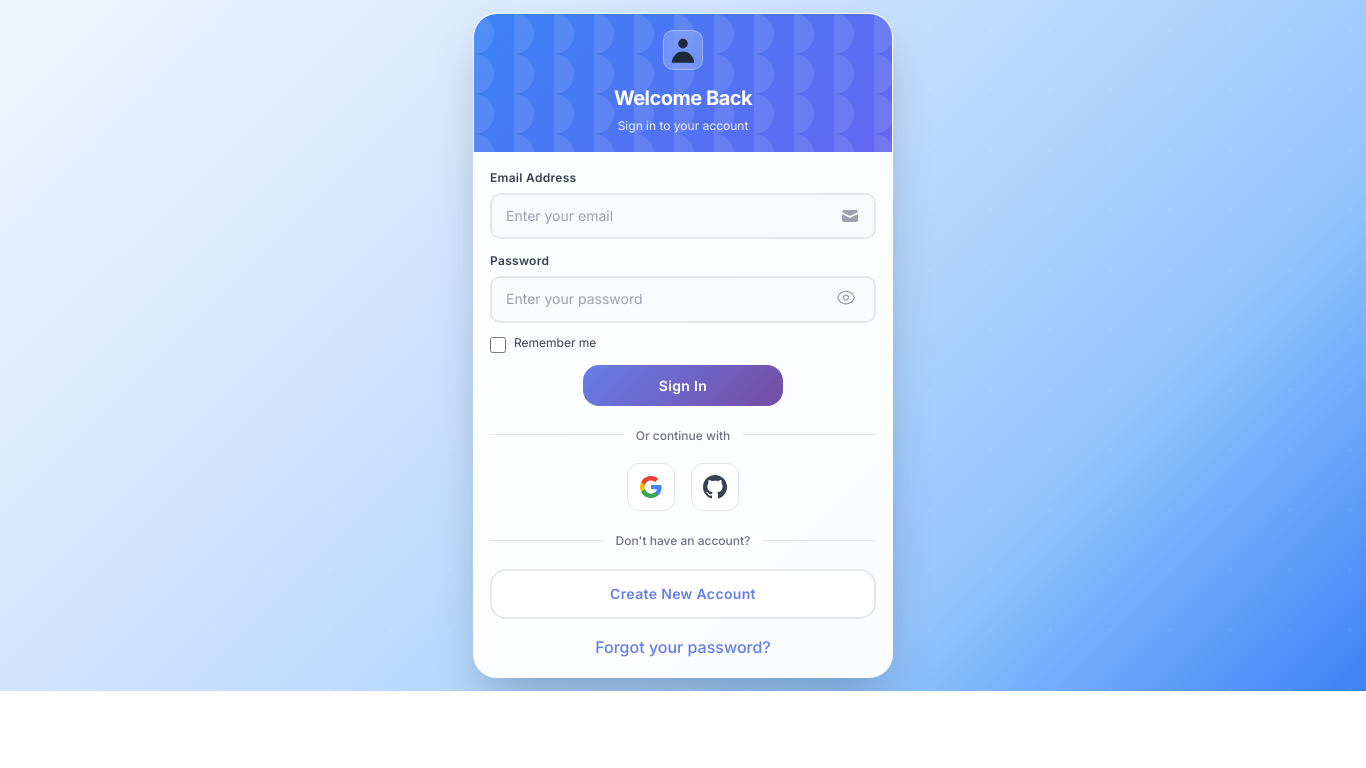
SignIn Component › displays validation error for invalid email format
Type "invalid-email" into the field labelled "Email Address".
click(683, 216); type("invalid-email")  # box [490,193,876,239]
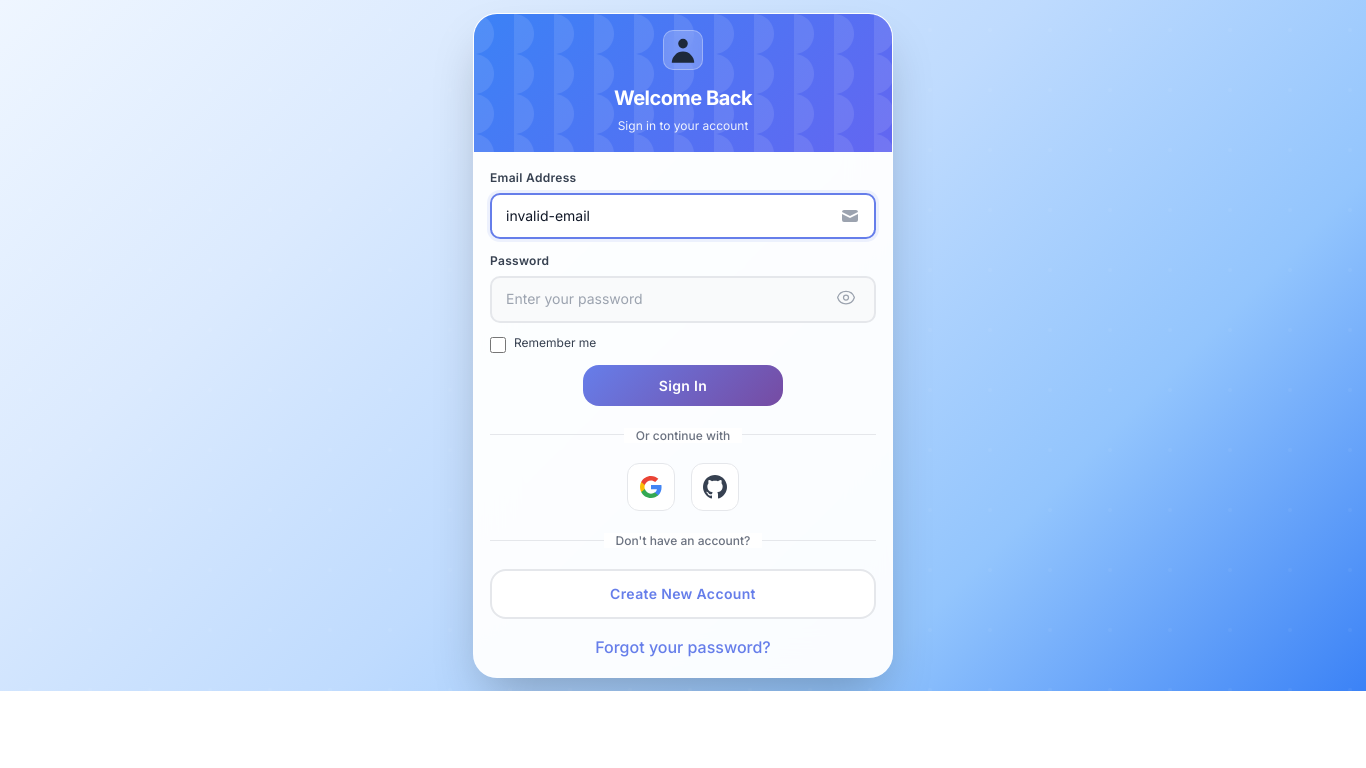
Click the button "Sign In".
click(683, 385)  # box [583,365,783,406]
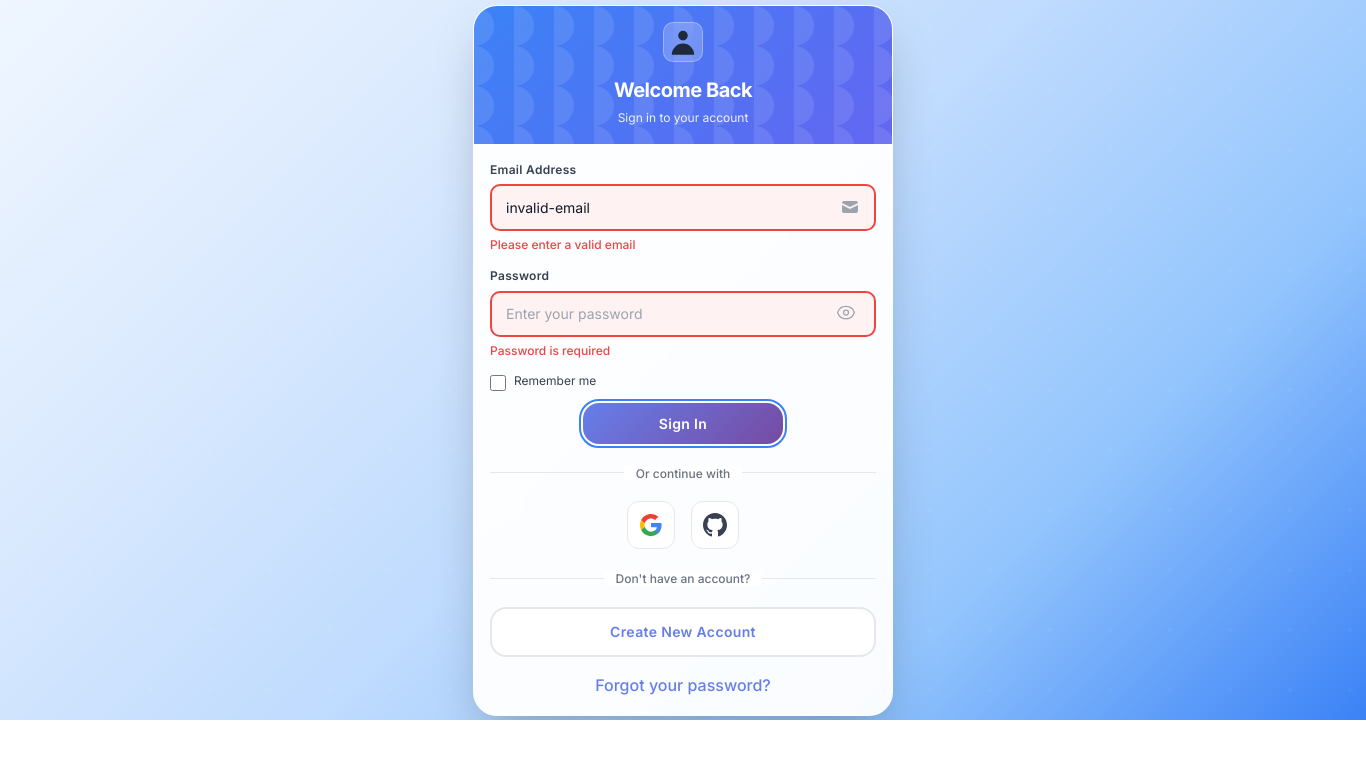
Expected: the text "Please enter a valid email" is shown, [490,237,635,252]
